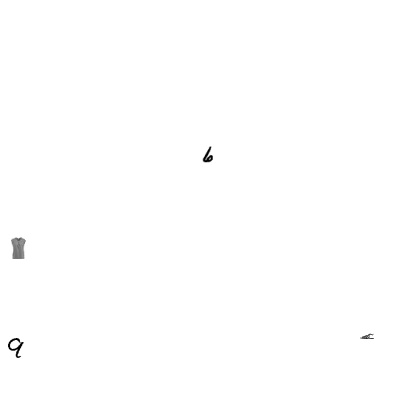6: (197, 145, 219, 167)
9: (1, 332, 29, 360)
Sandal: (360, 329, 374, 343)
Shirt: (7, 237, 29, 259)
